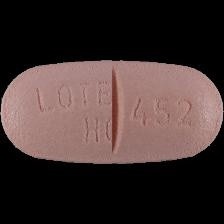64980-194: (0, 0, 224, 224)
